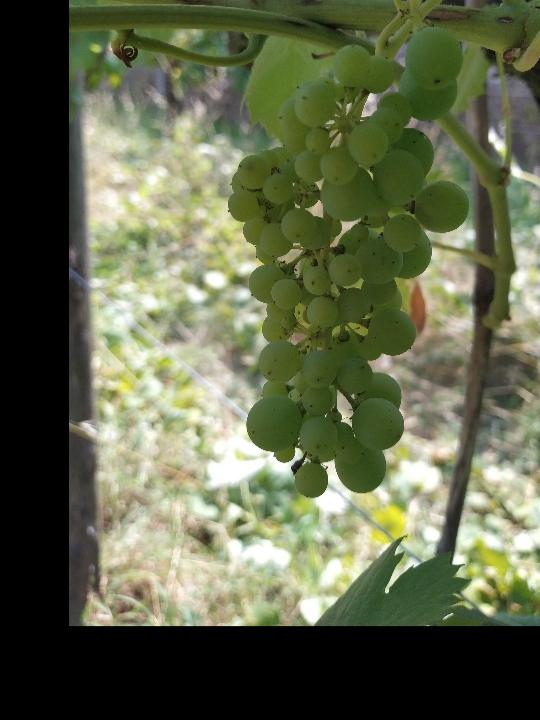grape: (223, 23, 470, 501)
